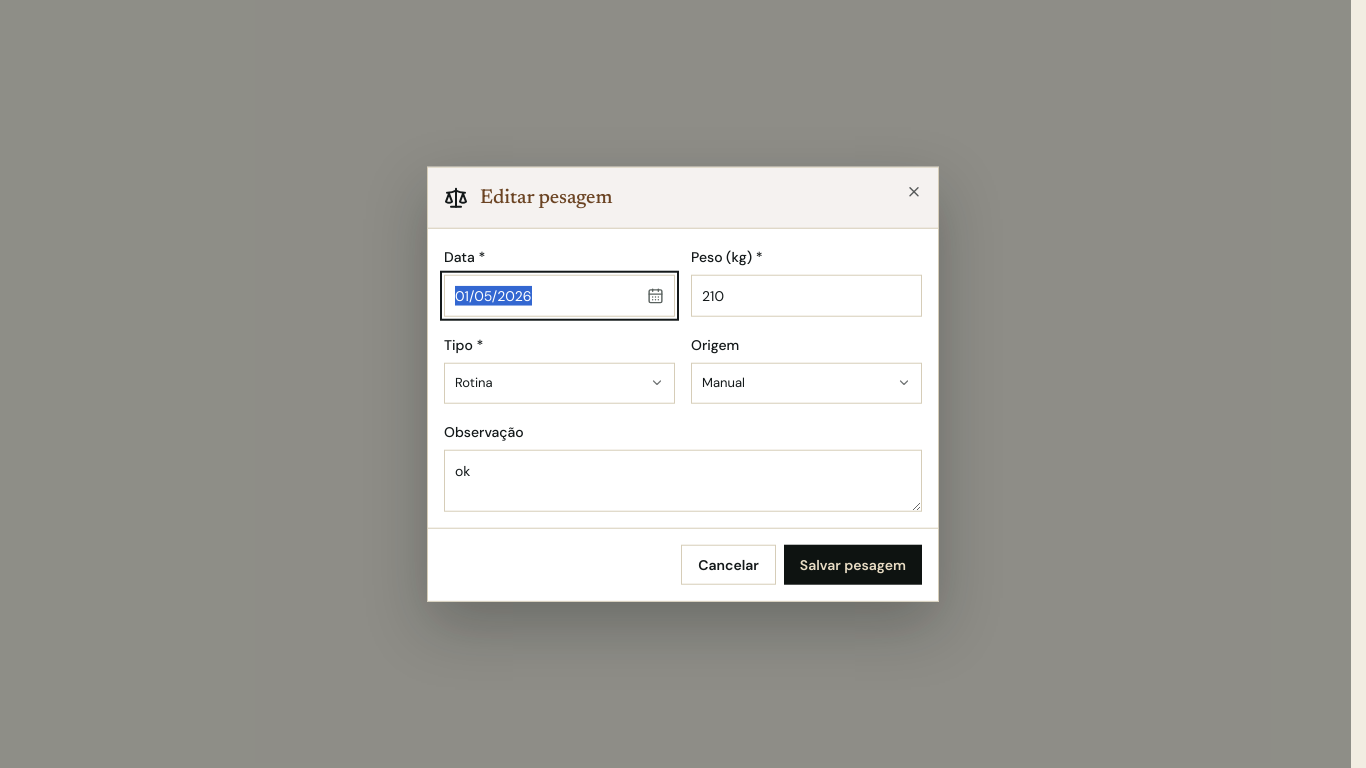
it: FormPesagem — edição › recusa peso zero ou negativo
The image size is (1366, 768).
Step 1. Replace the text in the number field labelled "Peso (kg)" with "0" → x=806, y=296, box [691,275,922,317]
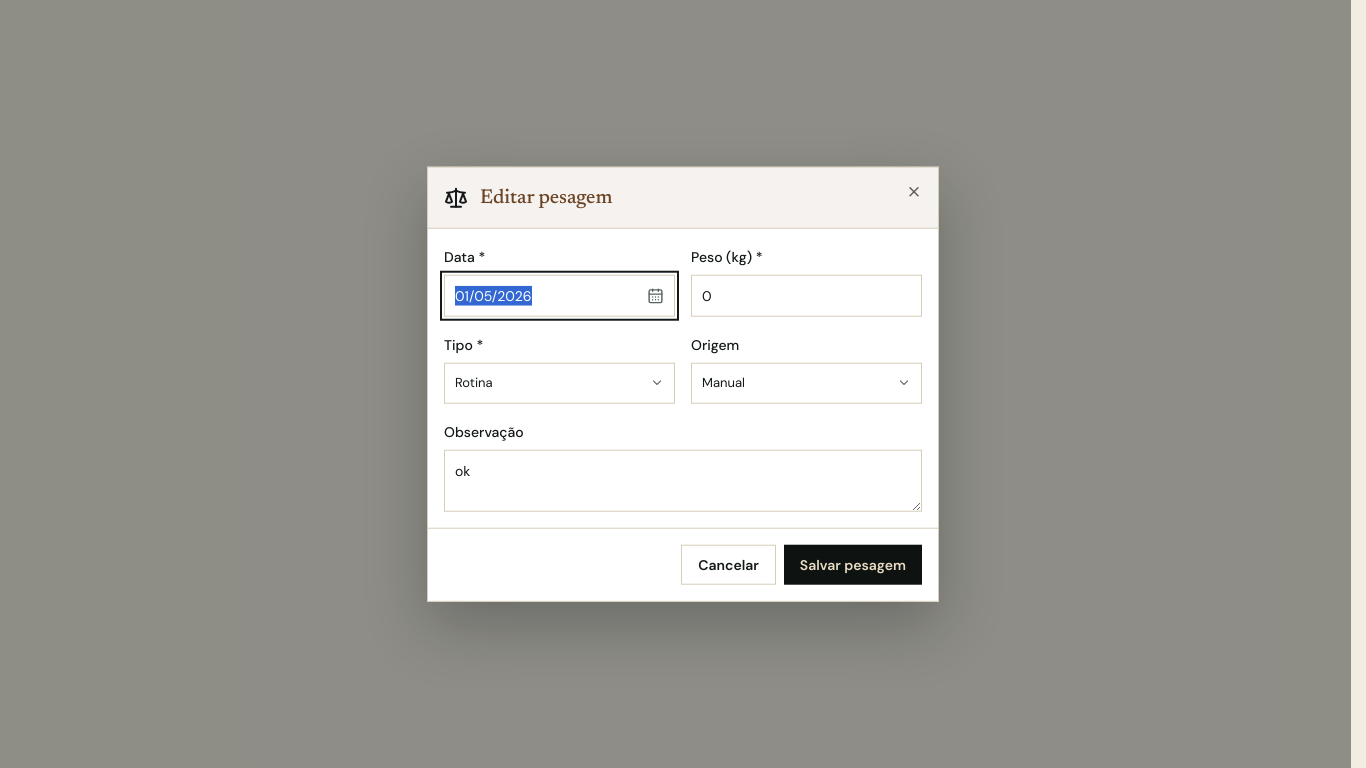
Step 2. Click the button "Salvar pesagem" → x=853, y=564, box [784,544,922,584]
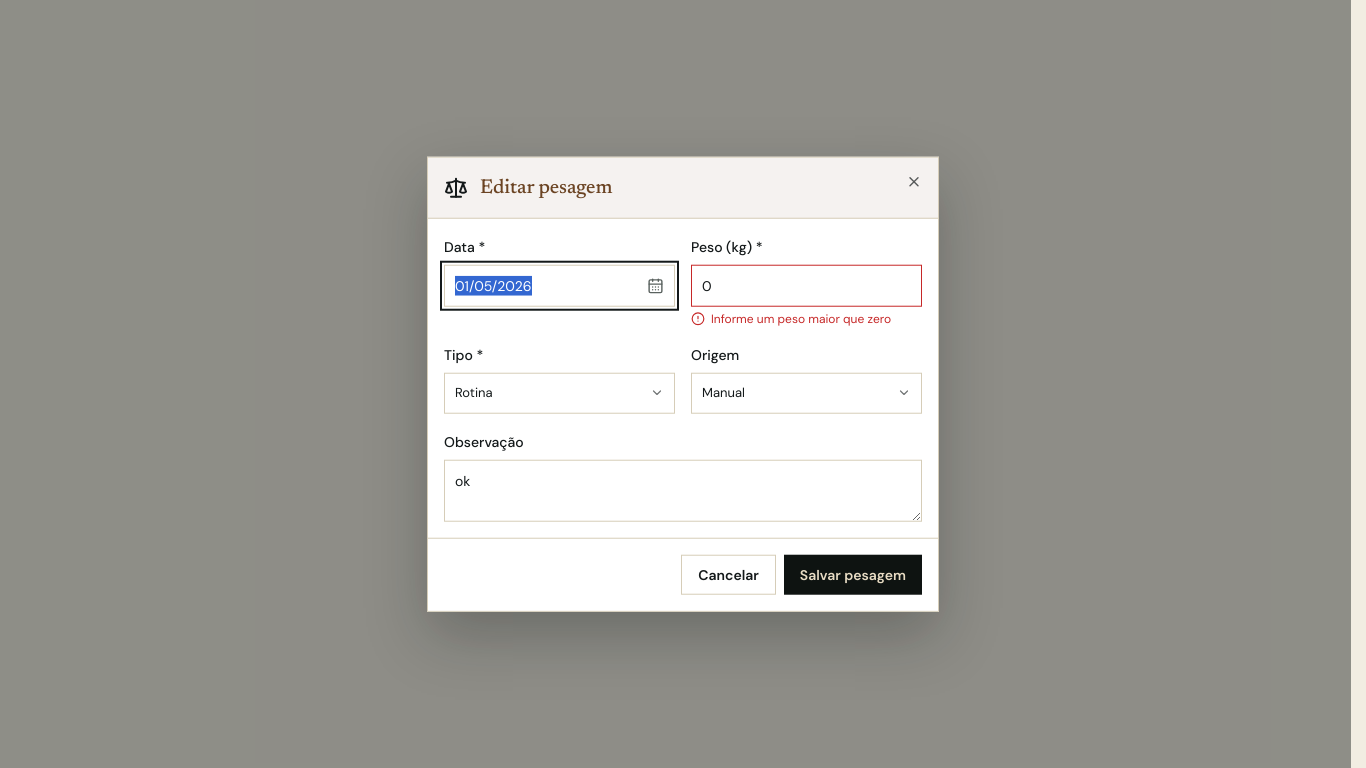
Expected: the text "Informe um peso maior que zero" is shown, [691,311,922,327]
